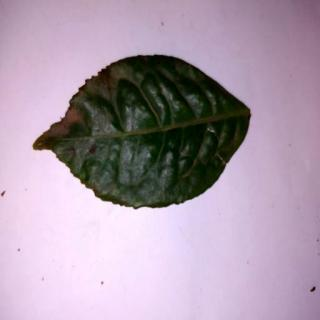Bird Eye Spot: (35, 55, 253, 209)
